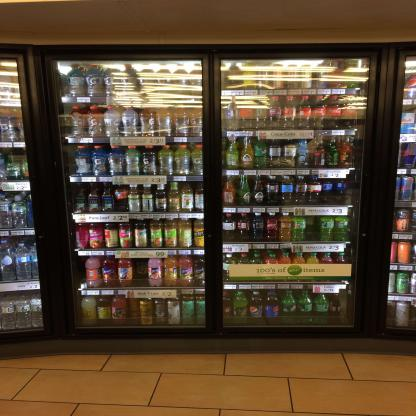Void: (132, 259, 150, 288), (308, 219, 321, 241)
